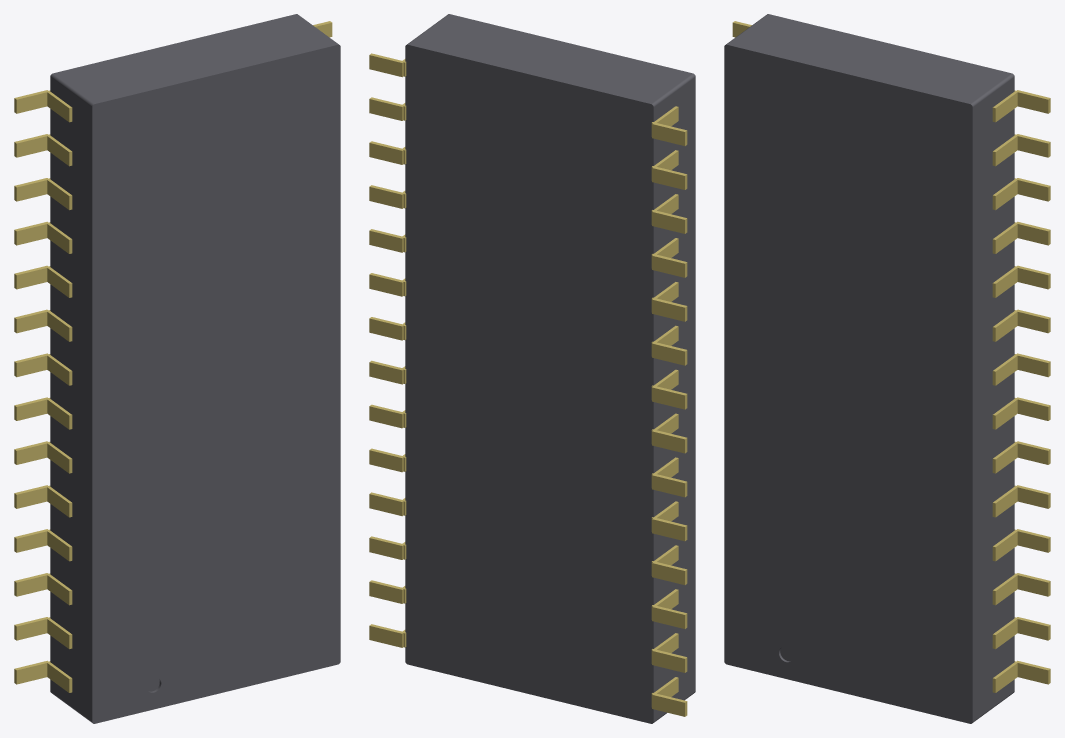
3 renders of one model, left to right at view 1: azimuth 30°, elevation 25°; view 2: azimuth 150°, elevation 25°; view 3: azimuth 330°, elevation 25°, orthographic.
Visible parts, largest first — view 1: extra, pins; view 2: extra, pins; view 3: extra, pins.
Boxes of the visible parts, x1,y1,x2,y2 form: extra: (50, 14, 340, 723); pins: (14, 21, 332, 692); extra: (405, 14, 695, 723); pins: (369, 53, 687, 716); extra: (724, 14, 1014, 723); pins: (732, 21, 1050, 692).
Bounding box in the file's own units: 9.56 × 17.93 × 2.32.
